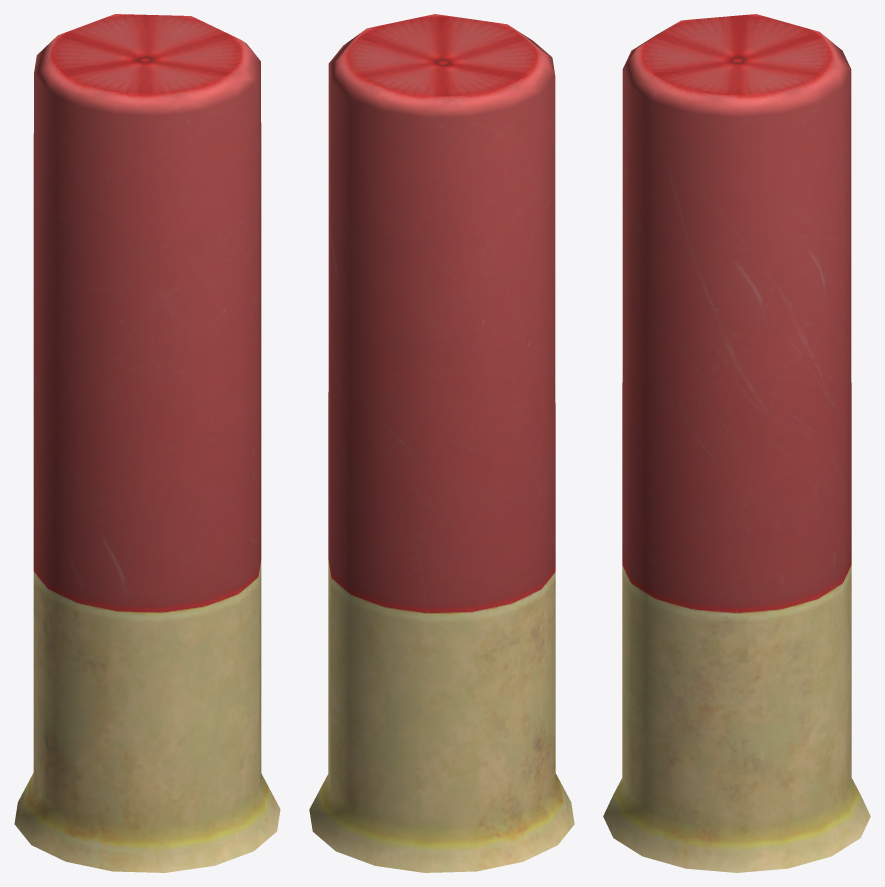
Rendered from SM_Ammo_04b.glb.
3 views of the same model, side by side, from view 1: azimuth 30°, elevation 25°; view 2: azimuth 150°, elevation 25°; view 3: azimuth 270°, elevation 25° (orthographic).
Visible parts, largest first — view 1: SM_Ammo_04b; view 2: SM_Ammo_04b; view 3: SM_Ammo_04b.
Boxes of the visible parts, left/top/right/bottom form: SM_Ammo_04b: left=14, top=14, right=280, bottom=872; SM_Ammo_04b: left=309, top=14, right=574, bottom=872; SM_Ammo_04b: left=603, top=14, right=870, bottom=872.
Bounding box in the file's own units: 0.0192 × 0.0601 × 0.0192.
1 material, 1 textured.
